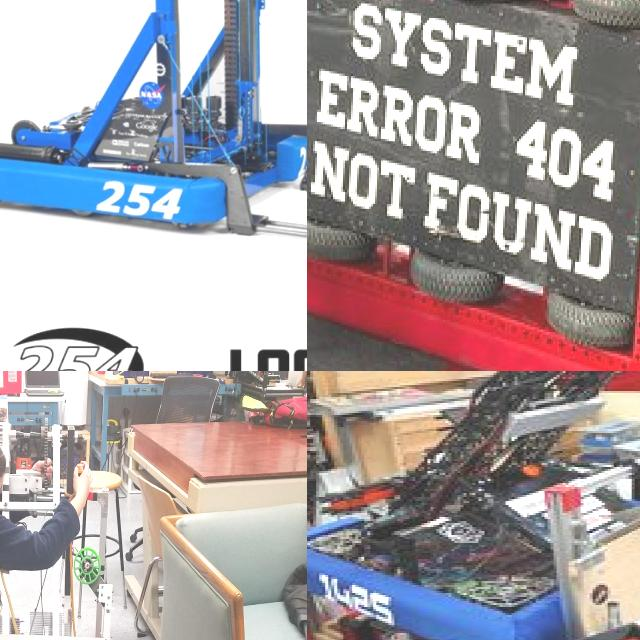FRC-Robots: (307, 0, 640, 371), (307, 371, 640, 640), (0, 0, 307, 276), (0, 535, 202, 640)
